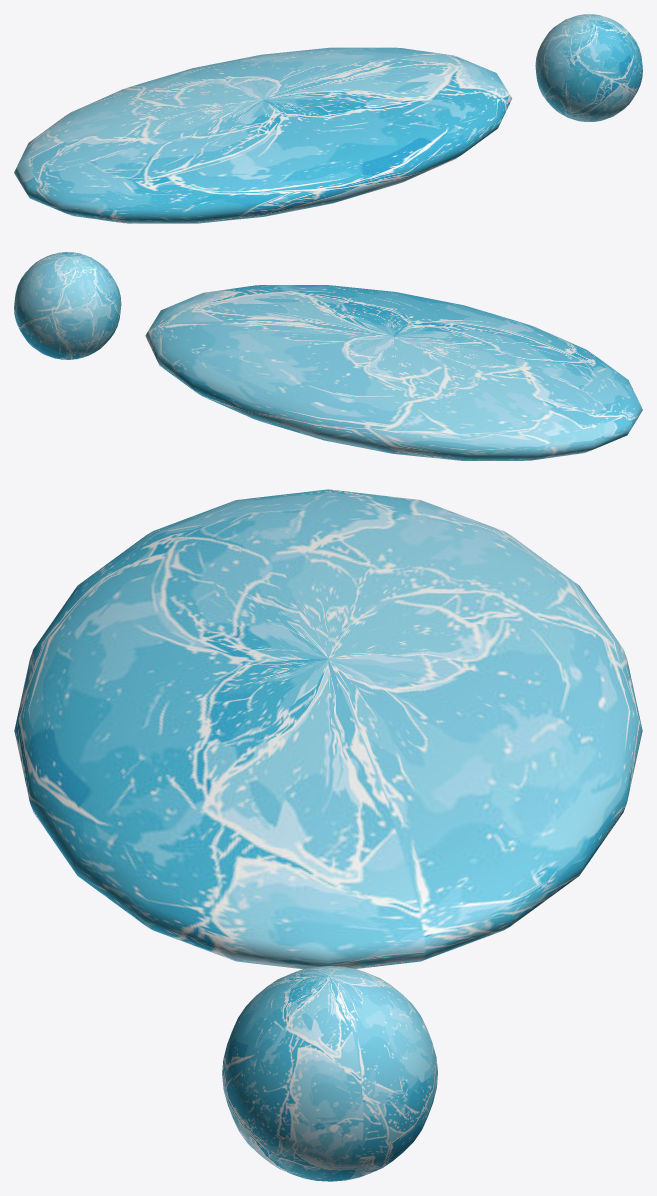
Rendered from ice_sample.glb.
3 views of the same model, one above another, from view 1: azimuth 30°, elevation 25°; view 2: azimuth 150°, elevation 25°; view 3: azimuth 270°, elevation 25° (orthographic). The views are drawn at different scales.
Visible parts, largest first — view 1: Platform.001, pSphere2.001; view 2: Platform.001, pSphere2.001; view 3: Platform.001, pSphere2.001.
Boxes of the visible parts, x1,y1,x2,y2 form: Platform.001: [14, 47, 512, 223]; pSphere2.001: [535, 14, 642, 121]; Platform.001: [145, 285, 642, 460]; pSphere2.001: [14, 252, 121, 359]; Platform.001: [14, 489, 642, 969]; pSphere2.001: [222, 966, 437, 1181].
Size of the model in its own units: 17.45 by 2.68 by 7.8.
1 material, 1 textured.
